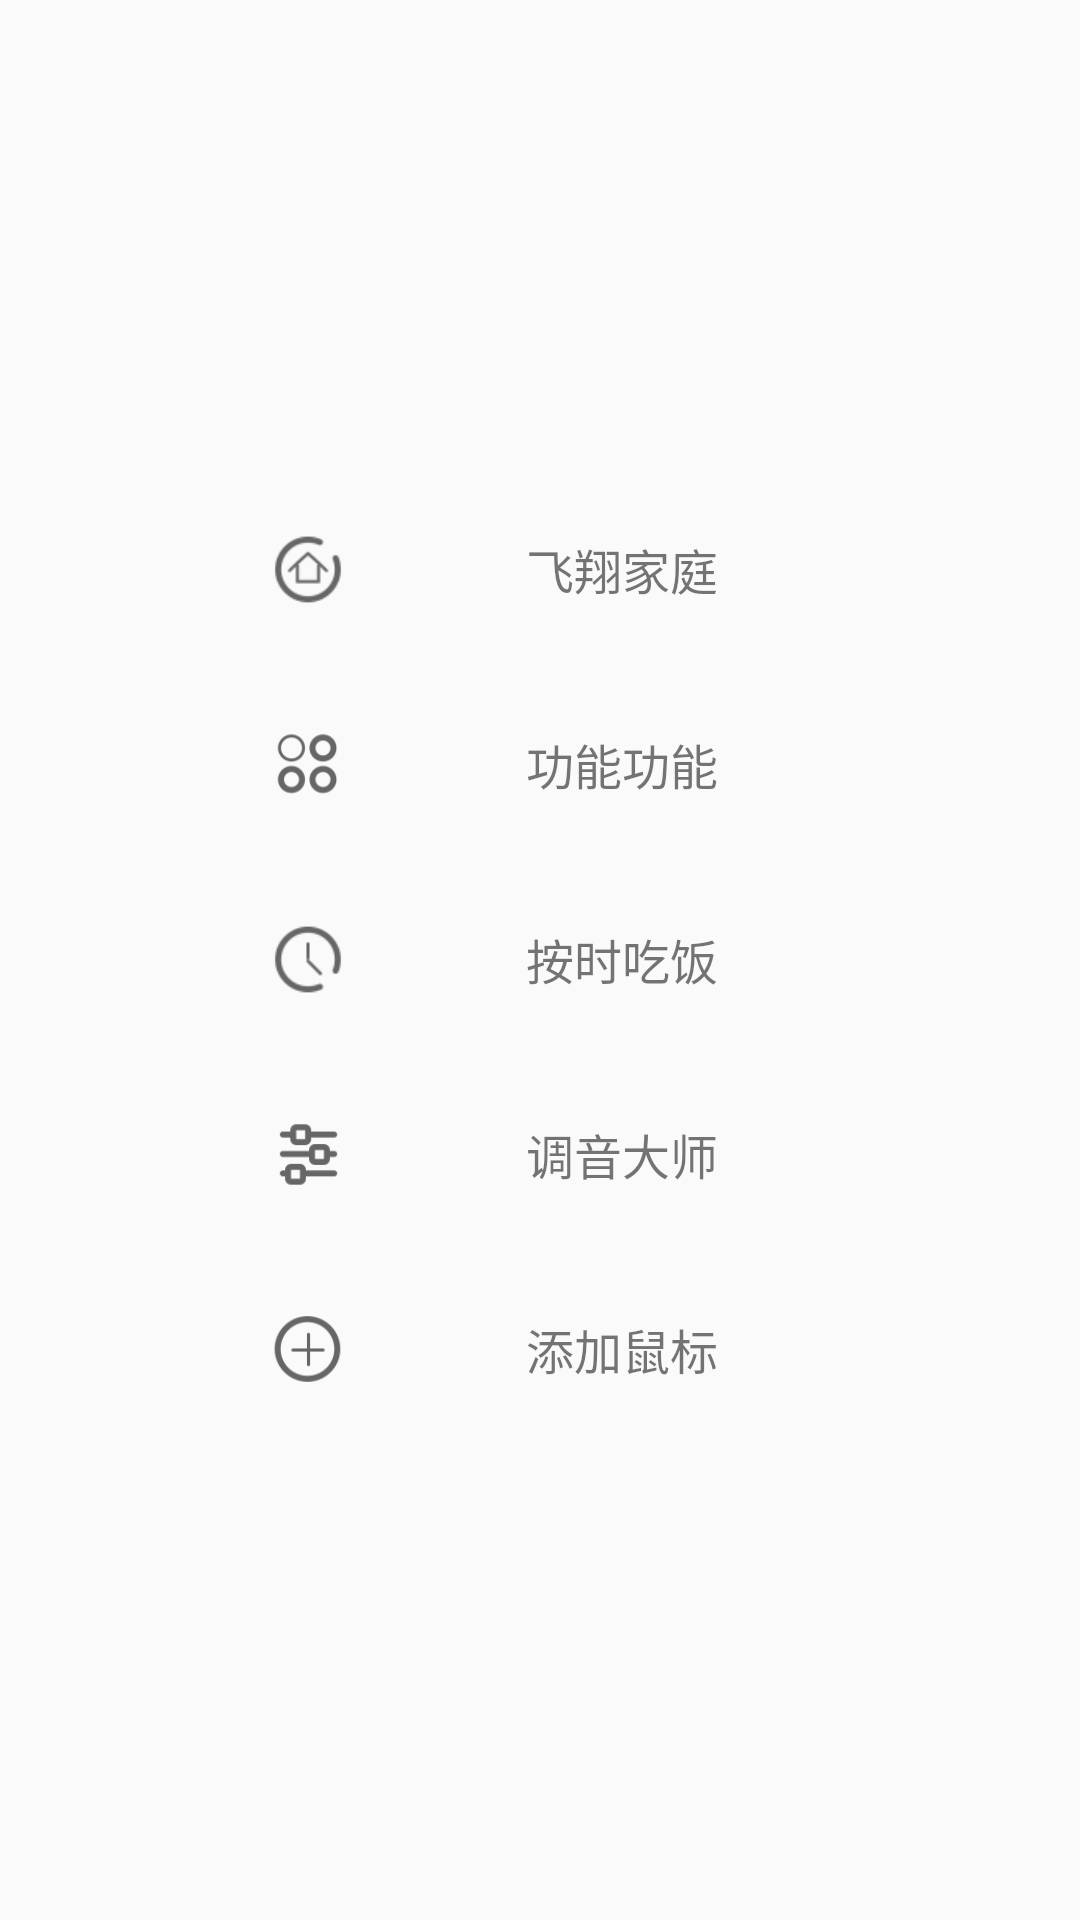

Named icons in this screenshot (1080*1920) and their centers, point (x, y):
home: point (308, 569)
scenes: point (307, 764)
setting: point (309, 1154)
time: point (308, 959)
